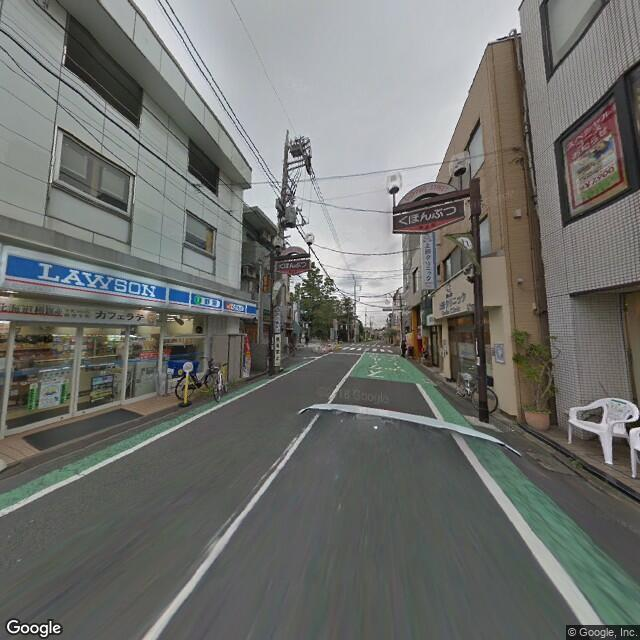lawson: (1, 241, 258, 321)
